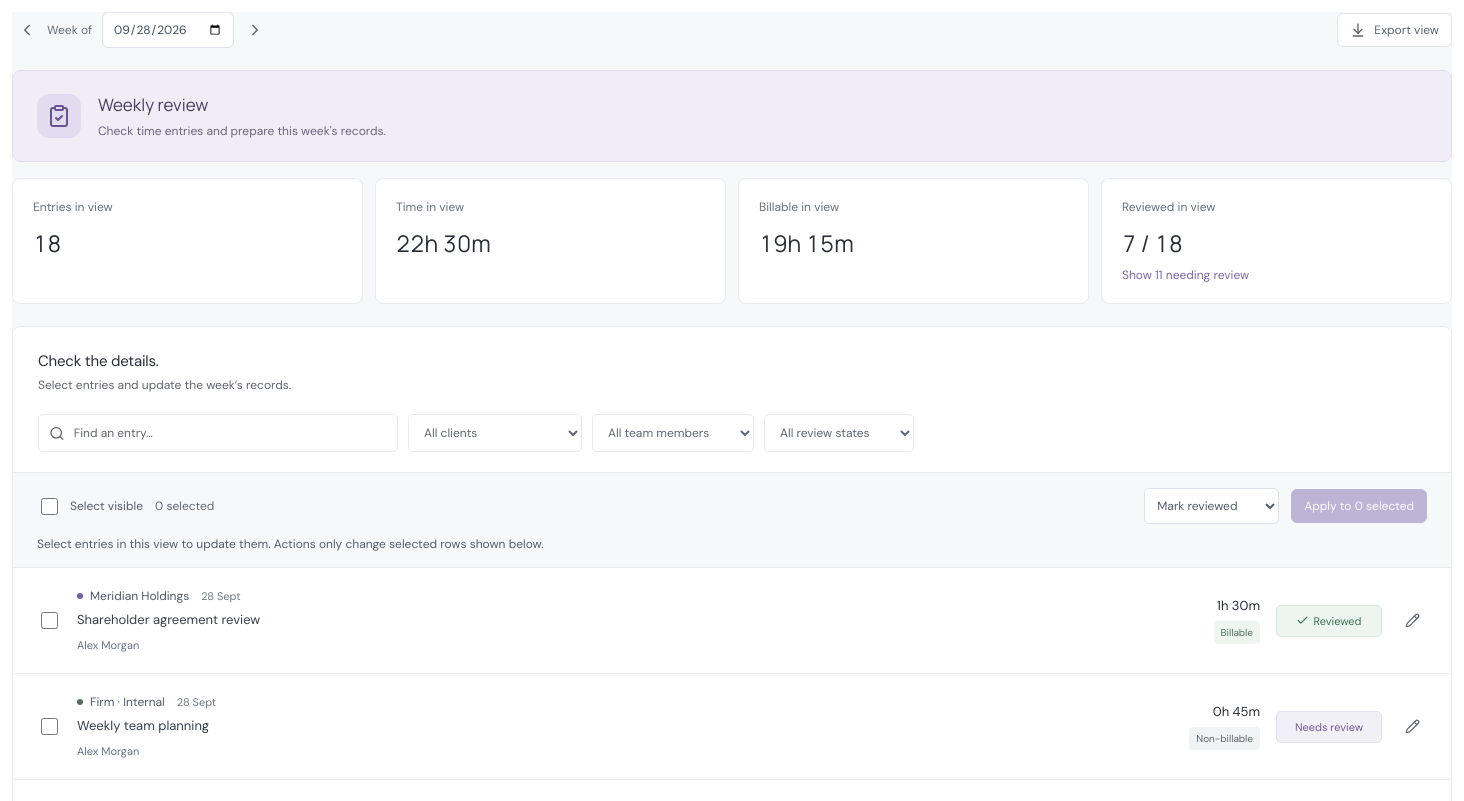
Test: Selection scope › describes which records the next action will change before applying it
Click the checkbox named "Select Shareholder agreement review".
click(50, 620)  # box [41,612,58,628]
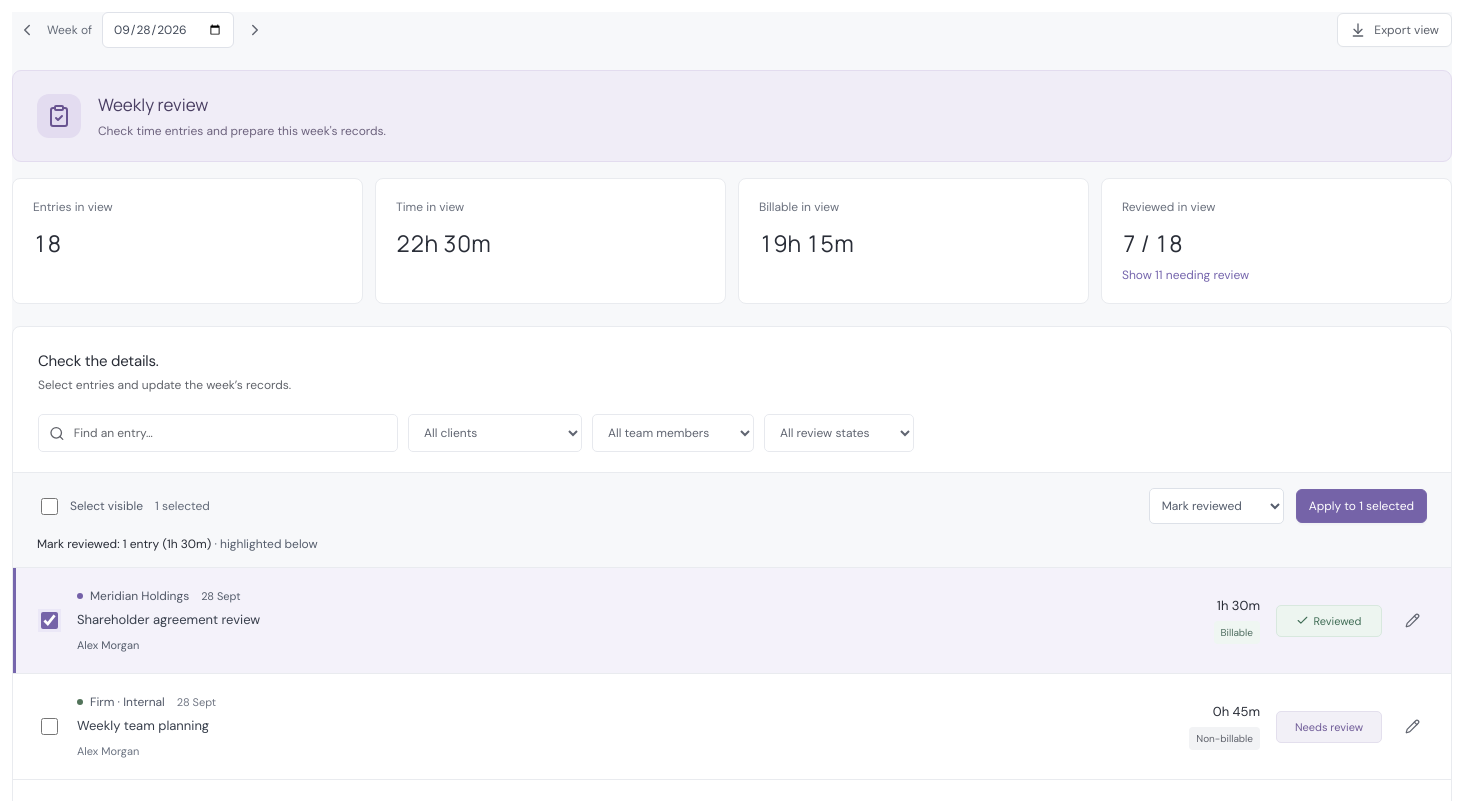
Click the checkbox named "Select Weekly team planning".
click(50, 726)  # box [41,718,58,734]
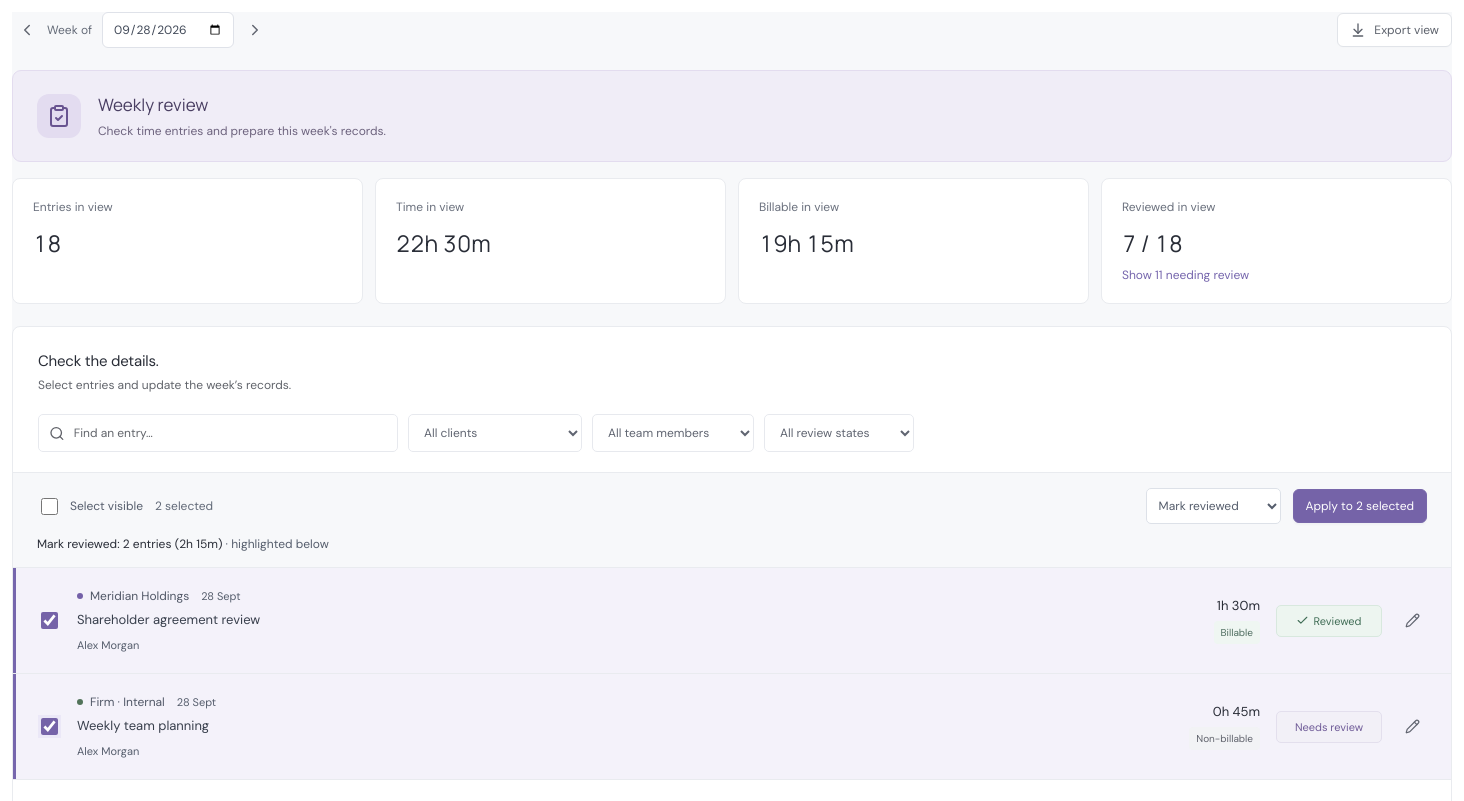
Select "Move to client" in the dropdown named "Bulk action" at (1213, 506), box [1146,488,1281,524]
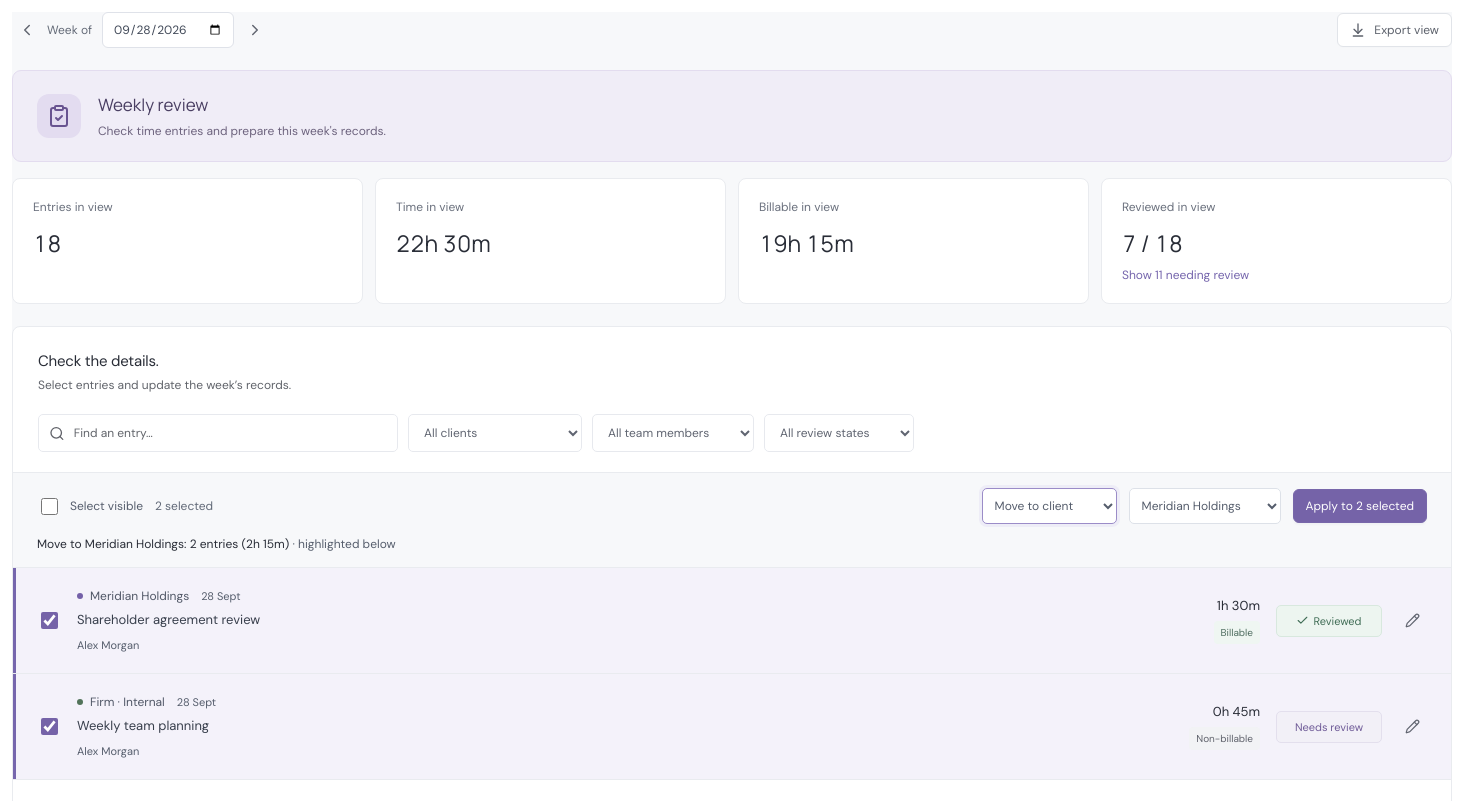
Select "Meridian Foundation" in the dropdown named "Destination client" at (1205, 506), box [1129,488,1281,524]
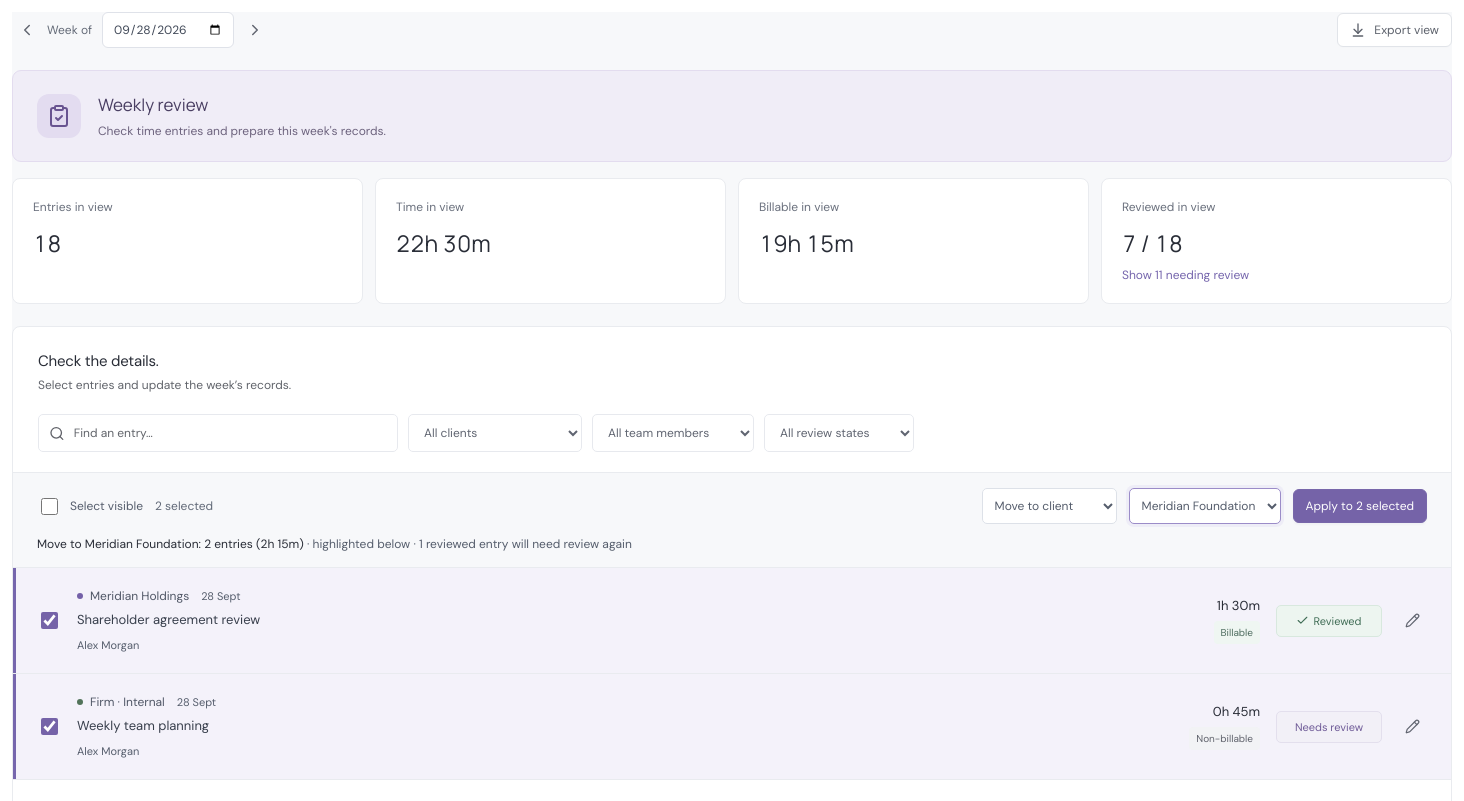
expect the element with test id "action-scope" shows "Move to Meridian Foundation: 2 entries (2h 15m)": met, box [37,536,632,552]
expect the element with test id "action-scope" shows "1 reviewed entry will need review again": met, box [410,536,632,552]
